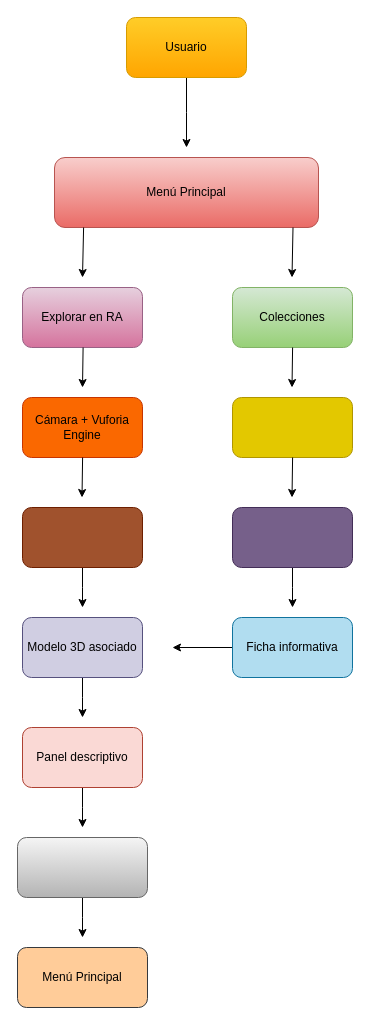
Image size: 370x1025. Some labels were removed from this diagram. The shapes that lost their labels are listed below. From the top down, each one's box as (x1, y1, x2, y2) in pixels, then its label:
(232, 396, 352, 458): Miniaturas de piezas
(22, 506, 142, 568): Reconocimineto del Image target
(232, 506, 352, 568): Selección de pieza
(16, 836, 148, 898): Botón Salir / Regresar
